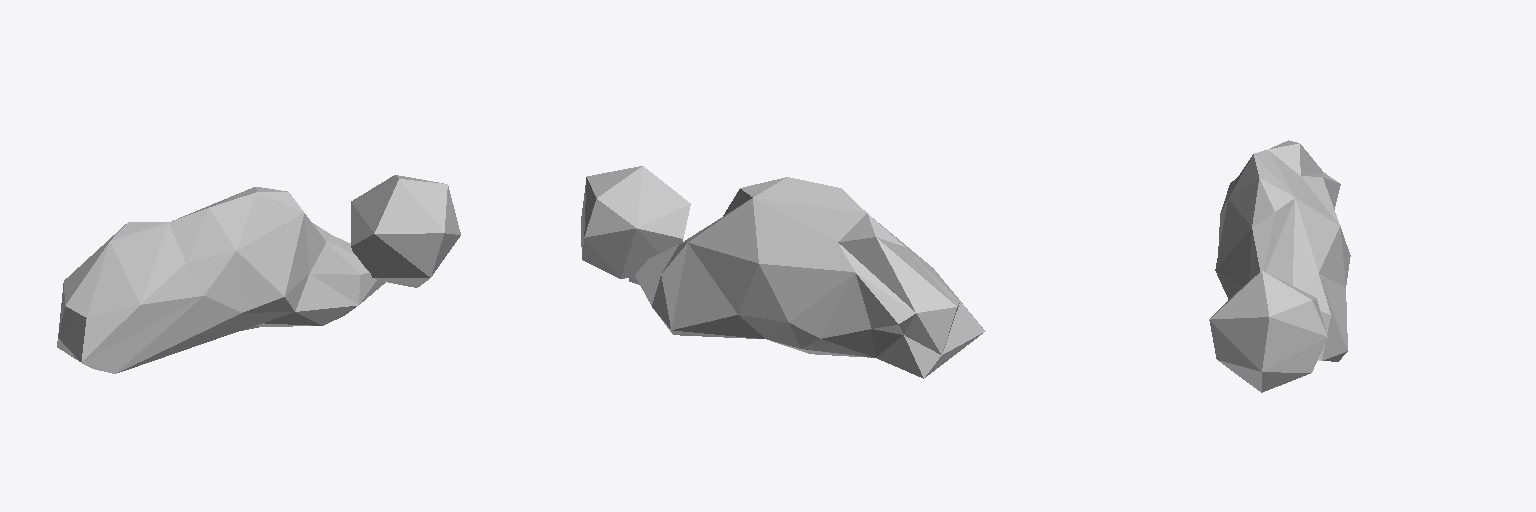
File: Cloud16.obj
3 renders of one model, left to right at view 1: azimuth 30°, elevation 25°; view 2: azimuth 150°, elevation 25°; view 3: azimuth 270°, elevation 25°, orthographic.
Visible parts, largest first — view 1: Cloud16_Object_60_Object_28.001; view 2: Cloud16_Object_60_Object_28.001; view 3: Cloud16_Object_60_Object_28.001.
Part boxes in pixels (x1,y1,x2,y2): Cloud16_Object_60_Object_28.001: (57, 175, 460, 373); Cloud16_Object_60_Object_28.001: (581, 166, 985, 378); Cloud16_Object_60_Object_28.001: (1209, 140, 1350, 392).
Bounding box in the file's own units: 2.01 × 0.7207 × 0.6263.